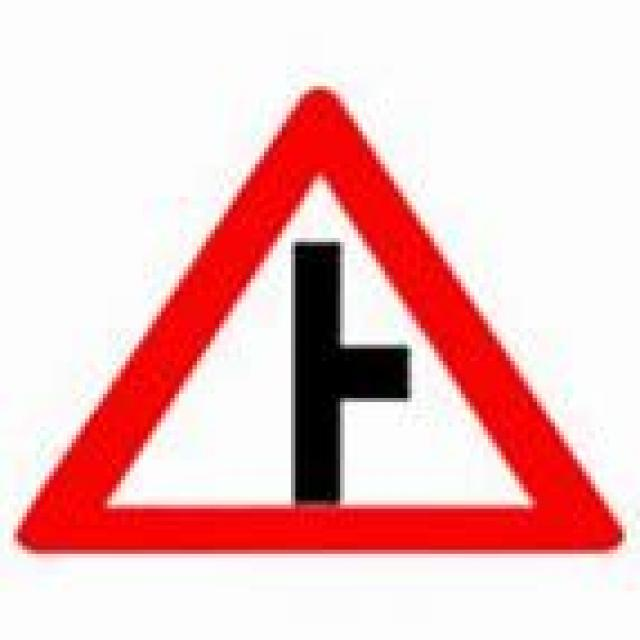SIDE_ROAD_RIGHT: (9, 78, 627, 554)
